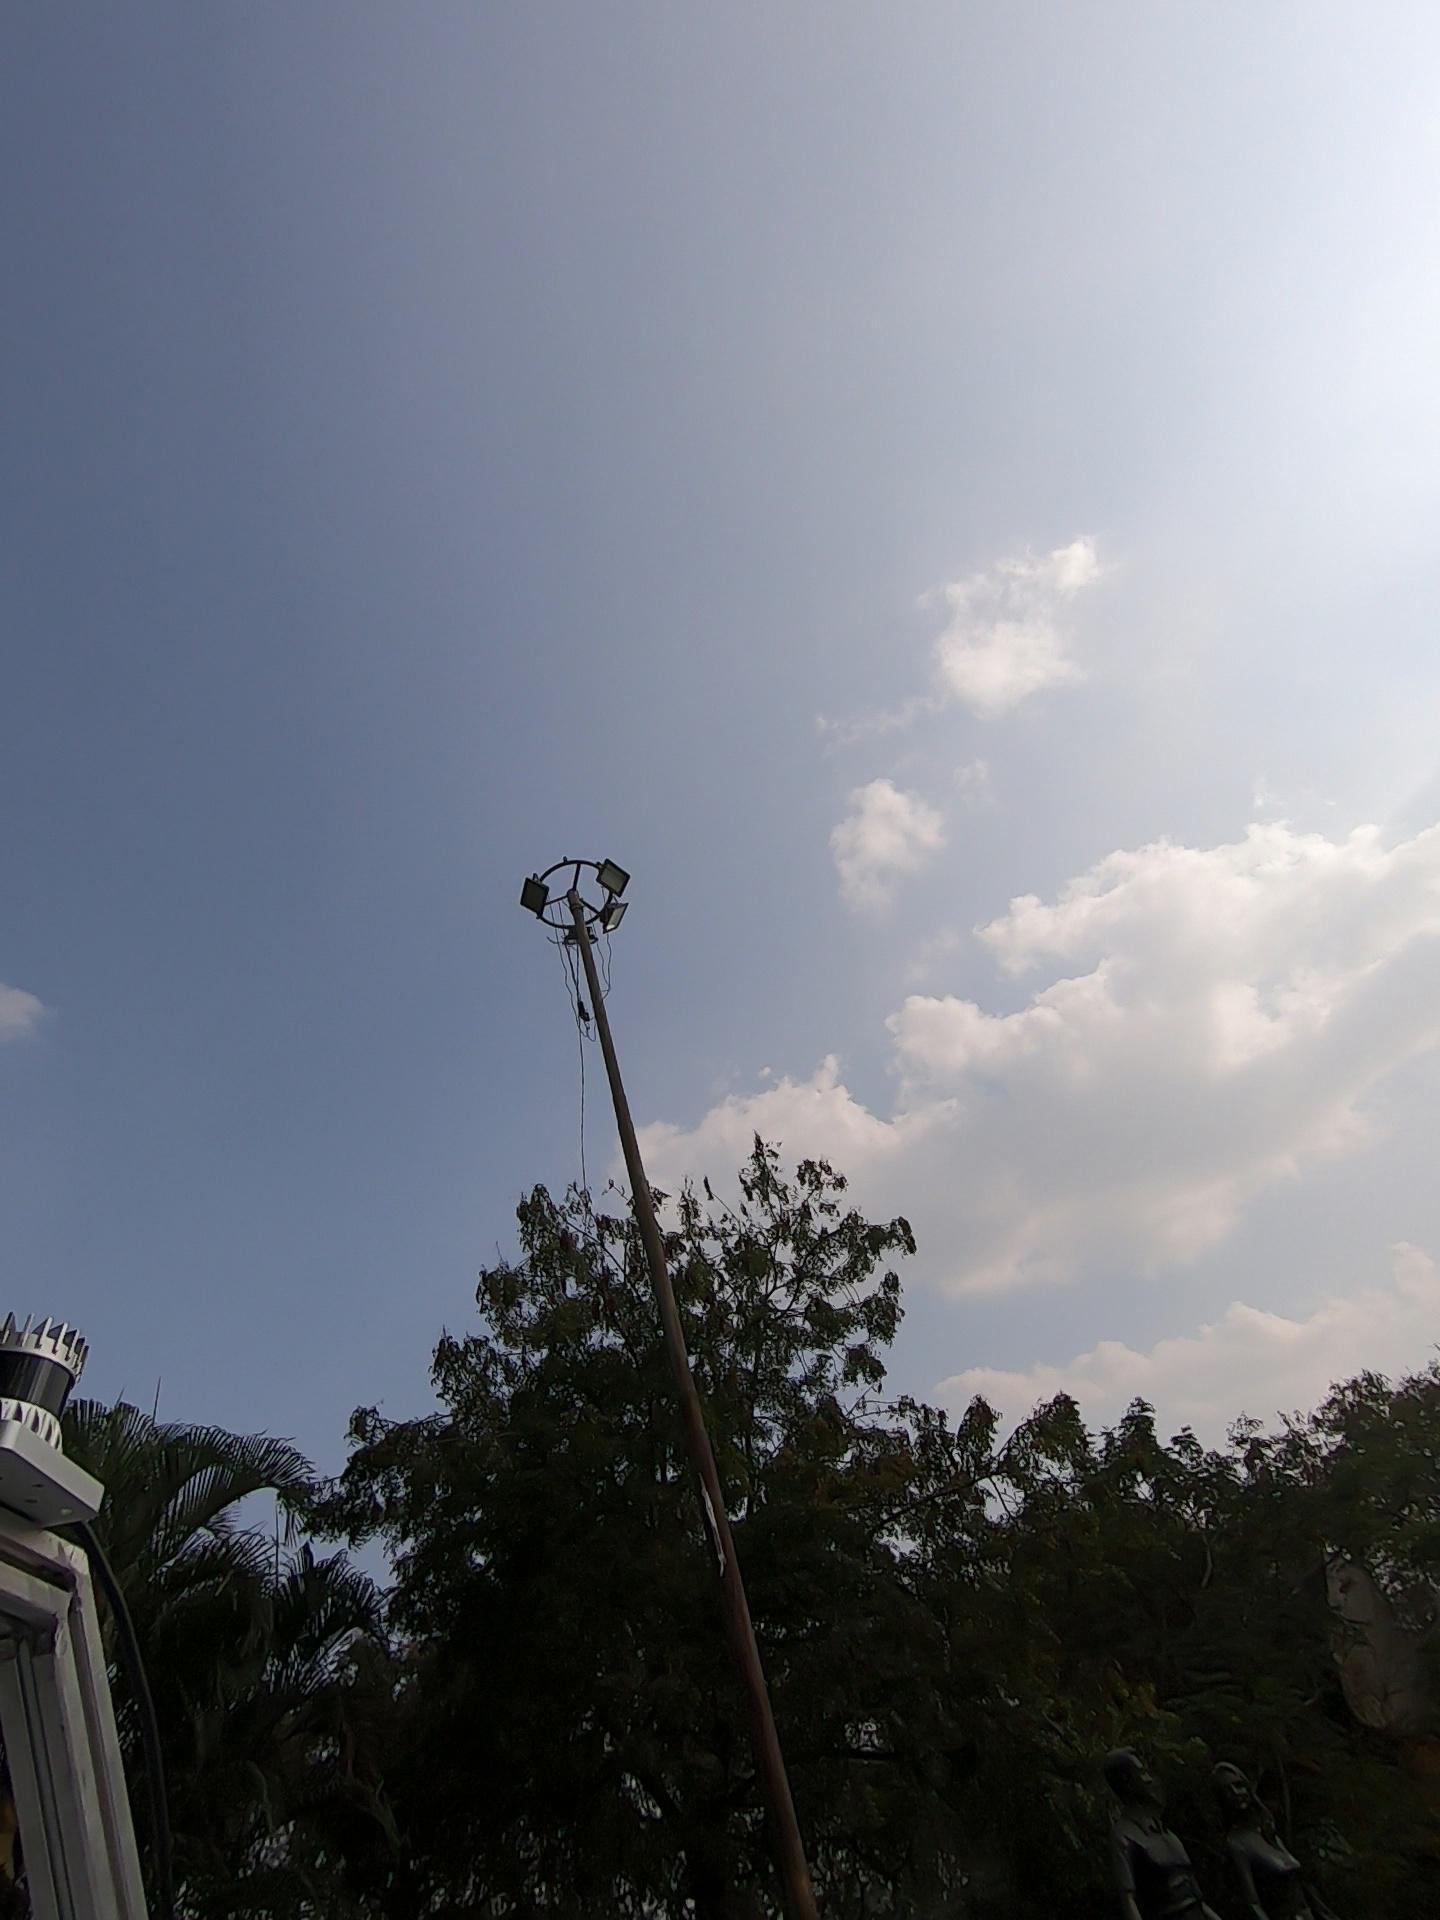off: (525, 736, 655, 1023)
